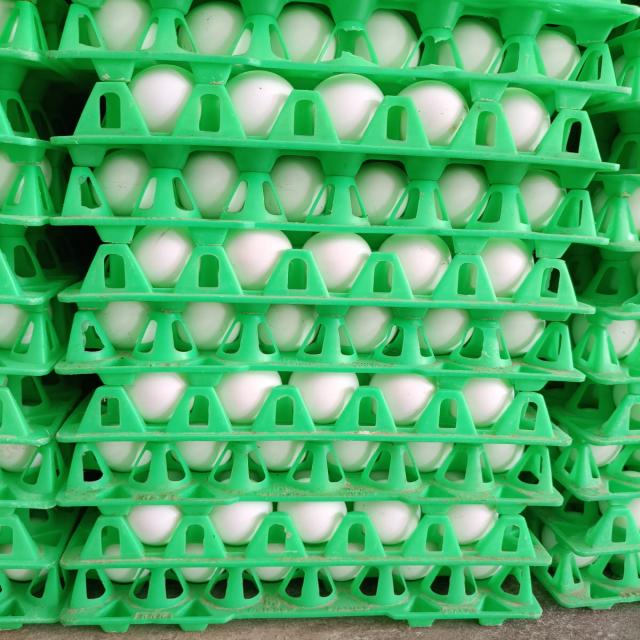egg_tray: (53, 65, 616, 188), (58, 371, 569, 506), (50, 0, 637, 107), (61, 501, 550, 627), (54, 149, 606, 257), (60, 227, 592, 319), (56, 301, 583, 388), (61, 500, 549, 582), (58, 370, 570, 446), (57, 439, 561, 512), (61, 564, 541, 630), (60, 566, 541, 631), (529, 381, 639, 608), (0, 0, 73, 225), (0, 0, 67, 225), (0, 72, 85, 212), (576, 133, 639, 319), (0, 374, 80, 512), (549, 381, 639, 500), (0, 76, 68, 225), (529, 518, 639, 609), (0, 506, 77, 629), (592, 58, 639, 252), (573, 253, 639, 383), (574, 259, 639, 383), (527, 487, 639, 556), (591, 95, 639, 252), (590, 100, 639, 252), (0, 373, 81, 464), (0, 127, 68, 226), (590, 116, 639, 253), (0, 224, 78, 310), (532, 548, 639, 609), (543, 380, 639, 446), (0, 0, 68, 90), (564, 245, 639, 323), (0, 507, 77, 582), (0, 77, 66, 162), (0, 298, 72, 375), (0, 144, 67, 226), (551, 438, 639, 500), (567, 311, 639, 384), (0, 440, 70, 512), (0, 90, 60, 174), (594, 18, 639, 127), (597, 18, 639, 132), (0, 0, 68, 70), (0, 564, 72, 630), (592, 31, 639, 132), (20, 224, 96, 281), (592, 173, 639, 260), (593, 114, 639, 194), (0, 194, 47, 224), (608, 17, 639, 60), (33, 0, 68, 38), (609, 18, 638, 57), (541, 380, 581, 407), (625, 58, 639, 80), (0, 225, 20, 236), (22, 50, 32, 61), (0, 61, 6, 77), (29, 55, 37, 64), (629, 110, 637, 119), (332, 567, 342, 574), (577, 282, 586, 289), (18, 0, 30, 5), (9, 0, 18, 6), (41, 2, 54, 6), (20, 273, 30, 278), (618, 103, 625, 109), (12, 40, 19, 46), (0, 305, 4, 314), (634, 87, 639, 94), (132, 454, 137, 461), (570, 268, 574, 276), (0, 177, 5, 183), (63, 170, 66, 180), (632, 72, 637, 77), (630, 112, 635, 117), (189, 620, 195, 624), (22, 50, 27, 54), (7, 325, 10, 331), (632, 258, 635, 264), (637, 58, 639, 66), (567, 321, 571, 325), (626, 254, 634, 256), (395, 569, 400, 572), (47, 211, 52, 214), (47, 39, 50, 44), (594, 190, 597, 195), (0, 53, 2, 60), (610, 254, 616, 256), (631, 128, 635, 131), (27, 54, 30, 58), (204, 577, 207, 581), (64, 87, 68, 90), (14, 24, 17, 28), (0, 461, 2, 467), (2, 185, 6, 188), (18, 0, 22, 3), (599, 110, 605, 112), (110, 610, 112, 616), (0, 55, 2, 60), (404, 567, 413, 568), (488, 171, 491, 174), (0, 342, 2, 346), (65, 305, 69, 307), (0, 48, 2, 52), (604, 152, 608, 154), (577, 312, 584, 313), (0, 62, 3, 64), (466, 242, 469, 244), (15, 327, 17, 330), (18, 154, 20, 157), (0, 454, 2, 457), (5, 203, 7, 206), (8, 185, 11, 187), (111, 628, 114, 630), (189, 627, 195, 628), (496, 179, 499, 181), (112, 570, 117, 571), (7, 469, 12, 470), (119, 629, 124, 630), (577, 316, 581, 317), (9, 221, 11, 223), (21, 168, 23, 170), (23, 170, 25, 172), (580, 558, 582, 560), (492, 180, 496, 181), (635, 254, 639, 255), (473, 567, 476, 568), (622, 254, 625, 255), (24, 2, 27, 3), (351, 560, 353, 561), (618, 254, 620, 255), (0, 97, 1, 99), (69, 311, 70, 313), (356, 567, 358, 568), (548, 547, 550, 548), (183, 7, 185, 8), (586, 250, 587, 252), (190, 376, 192, 377), (65, 377, 66, 379), (198, 627, 200, 628), (486, 622, 488, 623), (145, 616, 146, 618), (107, 614, 108, 616), (0, 530, 1, 532), (0, 194, 1, 195), (350, 163, 351, 164), (585, 378, 586, 379), (20, 0, 21, 1), (289, 436, 290, 437), (28, 0, 29, 1), (485, 622, 486, 623), (0, 616, 1, 617), (574, 316, 574, 317), (494, 176, 494, 177), (5, 188, 5, 188), (0, 352, 1, 352), (636, 323, 638, 323), (631, 321, 636, 321), (0, 316, 1, 316), (32, 270, 33, 270), (34, 268, 36, 268), (34, 54, 34, 55), (18, 30, 19, 30), (12, 8, 12, 8), (596, 212, 597, 212), (138, 452, 139, 452)
